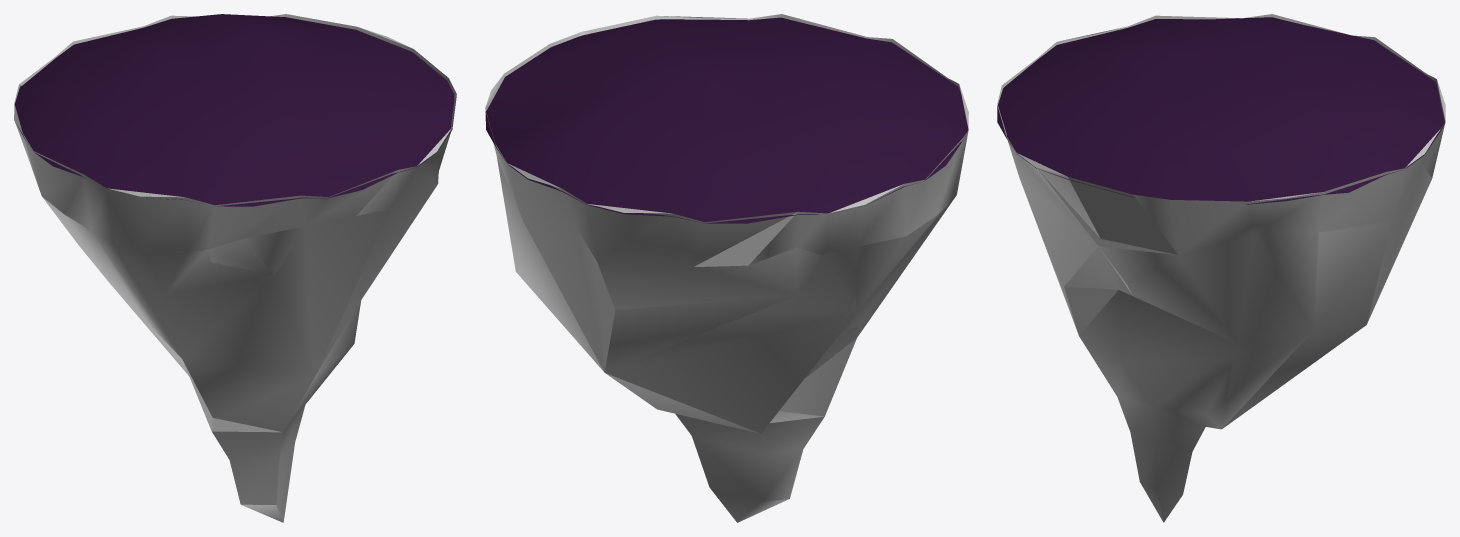
File: island.fbx
The picture shows the model from 3 angles, left to right: view 1: azimuth 30°, elevation 25°; view 2: azimuth 150°, elevation 25°; view 3: azimuth 270°, elevation 25°; orthographic projection. The views are drawn at different scales.
Parts seen in each view (by area): view 1: Grass, Rock; view 2: Rock, Grass; view 3: Rock, Grass.
Part boxes in pixels (left/top/right/bottom): Grass: left=14, top=14, right=456, bottom=206; Rock: left=14, top=14, right=456, bottom=522; Rock: left=485, top=14, right=968, bottom=522; Grass: left=485, top=17, right=968, bottom=223; Rock: left=997, top=14, right=1445, bottom=522; Grass: left=997, top=17, right=1444, bottom=204.
Size of the model in its own units: 1000 by 1090 by 1000.
